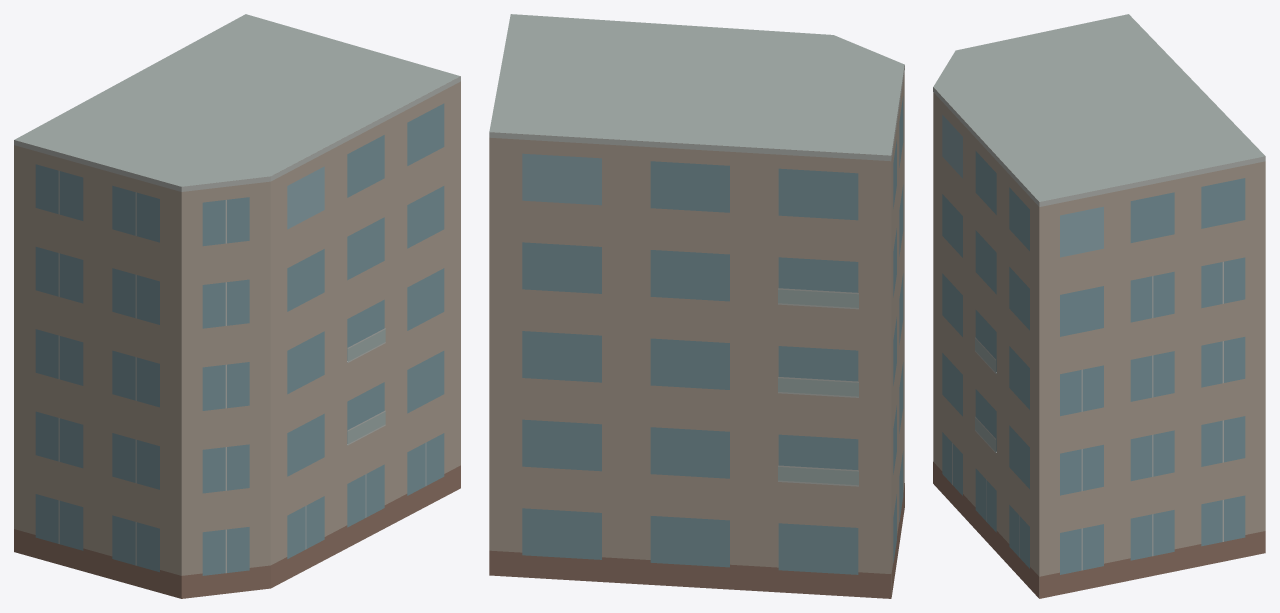
Rendered from survey-upis-32459311.glb.
3 renders of one model, left to right at view 1: azimuth 30°, elevation 25°; view 2: azimuth 150°, elevation 25°; view 3: azimuth 270°, elevation 25°, orthographic. The views are drawn at different scales.
Parts seen in each view (by area): view 1: survey-upis-32459311.tmp; view 2: survey-upis-32459311.tmp; view 3: survey-upis-32459311.tmp.
Part boxes in pixels (box(x1,y1,x2,y2)): survey-upis-32459311.tmp: box(14, 14, 460, 598); survey-upis-32459311.tmp: box(489, 14, 904, 598); survey-upis-32459311.tmp: box(933, 14, 1265, 598).
Size of the model in its own units: 19.66 by 19.33 by 14.69.
